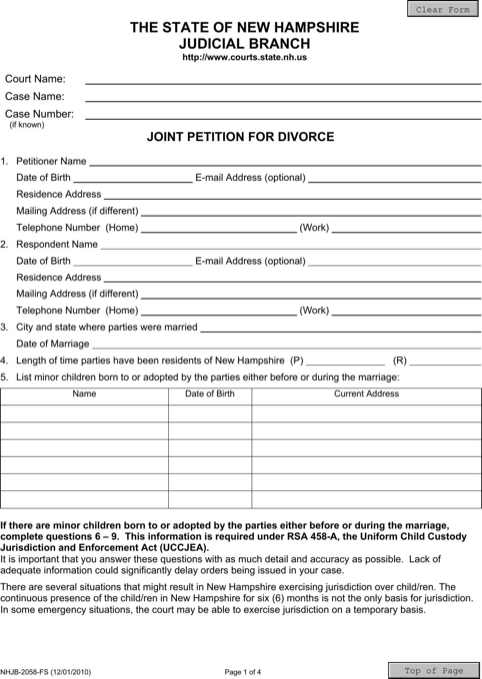textbox: (248, 402, 482, 426), (248, 419, 482, 443), (248, 436, 482, 460), (248, 453, 482, 477), (248, 470, 482, 494), (248, 488, 482, 512), (1, 401, 171, 426), (1, 418, 171, 443), (1, 436, 171, 461), (1, 452, 171, 477), (1, 469, 171, 494), (1, 487, 171, 512), (166, 487, 255, 512), (166, 470, 255, 495), (166, 453, 255, 478), (166, 436, 255, 461), (166, 419, 255, 444), (166, 401, 255, 426)
textline: (91, 334, 482, 352), (102, 267, 482, 285), (99, 235, 482, 252), (83, 71, 482, 87), (83, 88, 482, 104), (83, 106, 482, 122), (85, 152, 482, 168), (101, 185, 482, 201), (139, 285, 482, 302), (140, 202, 482, 217), (198, 318, 482, 335), (305, 253, 482, 270), (330, 218, 482, 235), (139, 218, 298, 234), (306, 170, 482, 184), (330, 303, 482, 319), (139, 304, 299, 319), (71, 253, 195, 269), (71, 170, 194, 184), (304, 352, 388, 369), (407, 353, 482, 369)
